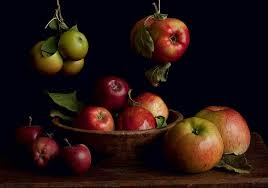apple: (163, 116, 225, 172), (194, 106, 251, 155), (134, 15, 191, 59), (31, 39, 65, 74), (96, 75, 129, 109), (130, 92, 168, 120), (56, 32, 90, 59), (78, 104, 112, 131), (117, 107, 154, 131), (55, 51, 90, 76), (59, 144, 90, 172), (15, 125, 44, 154), (27, 139, 60, 164)
